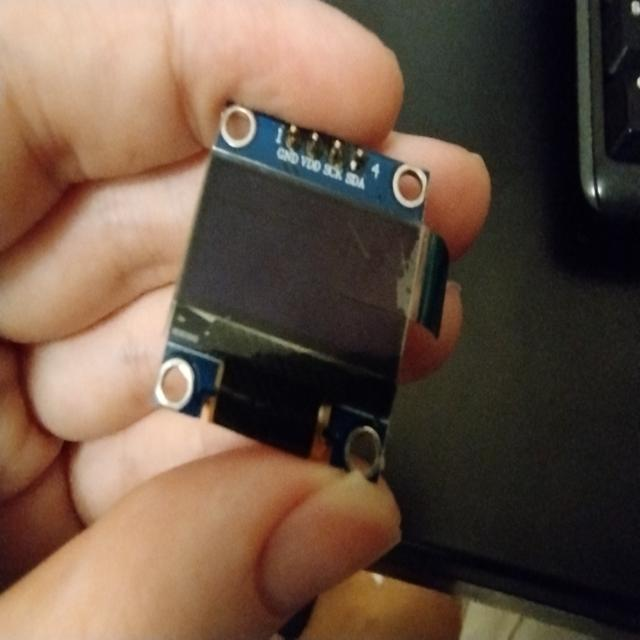oled: (147, 89, 441, 498)
